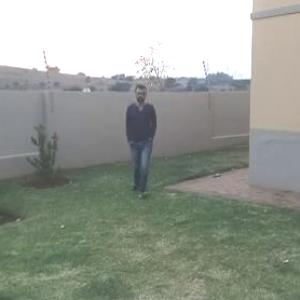follow: (126, 82, 164, 194)
